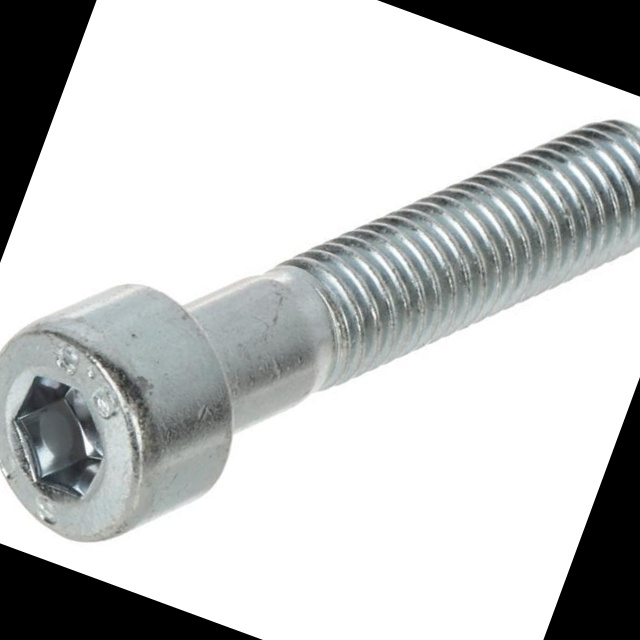allen: (0, 366, 129, 513)
